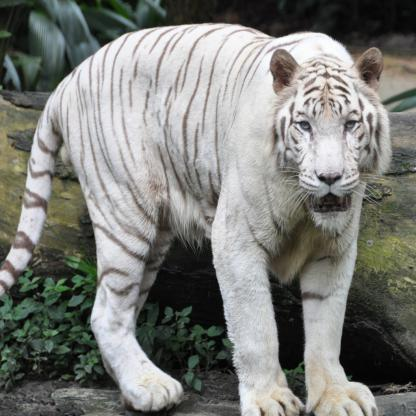tiger: (268, 52, 392, 261)
